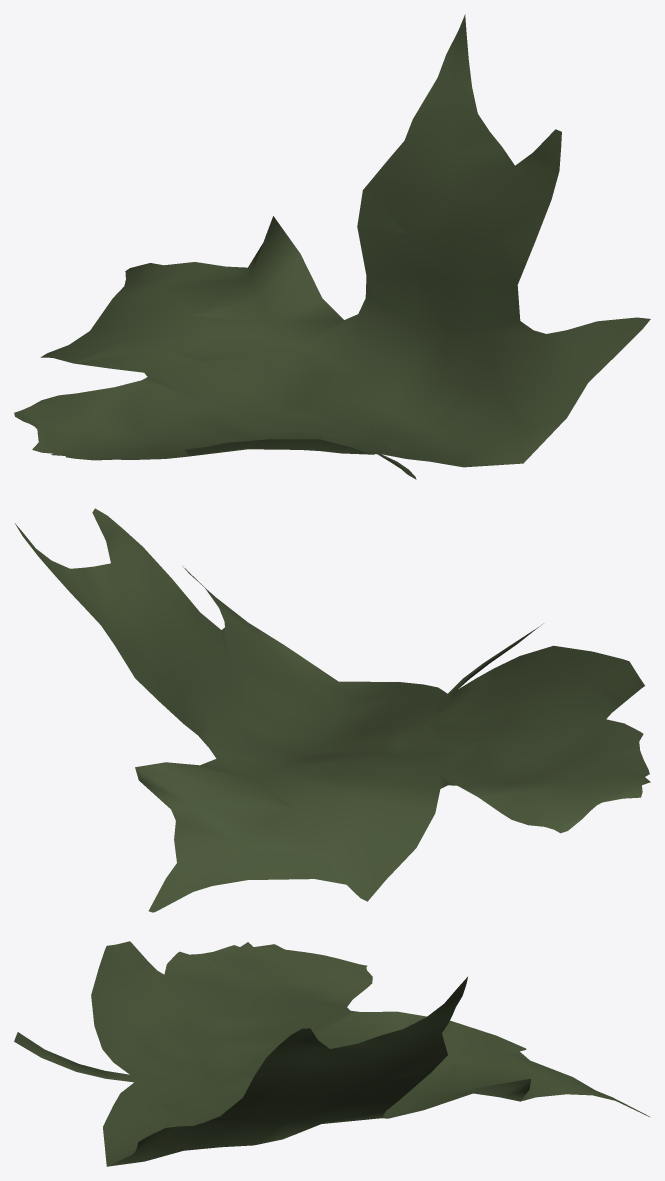
File: trees-leaves-crumpled-leaf_v2.glb
3 views of the same model, one above another, from view 1: azimuth 30°, elevation 25°; view 2: azimuth 150°, elevation 25°; view 3: azimuth 270°, elevation 25° (orthographic). The views are drawn at different scales.
Visible parts, largest first — view 1: Crumpled Leaf_v2; view 2: Crumpled Leaf_v2; view 3: Crumpled Leaf_v2.
Boxes of the visible parts, box(x1,y1,x2,y2) form: Crumpled Leaf_v2: box(14, 14, 650, 479); Crumpled Leaf_v2: box(15, 508, 650, 912); Crumpled Leaf_v2: box(14, 941, 650, 1166).
Bounding box in the file's own units: 0.1097 × 0.0525 × 0.12.
